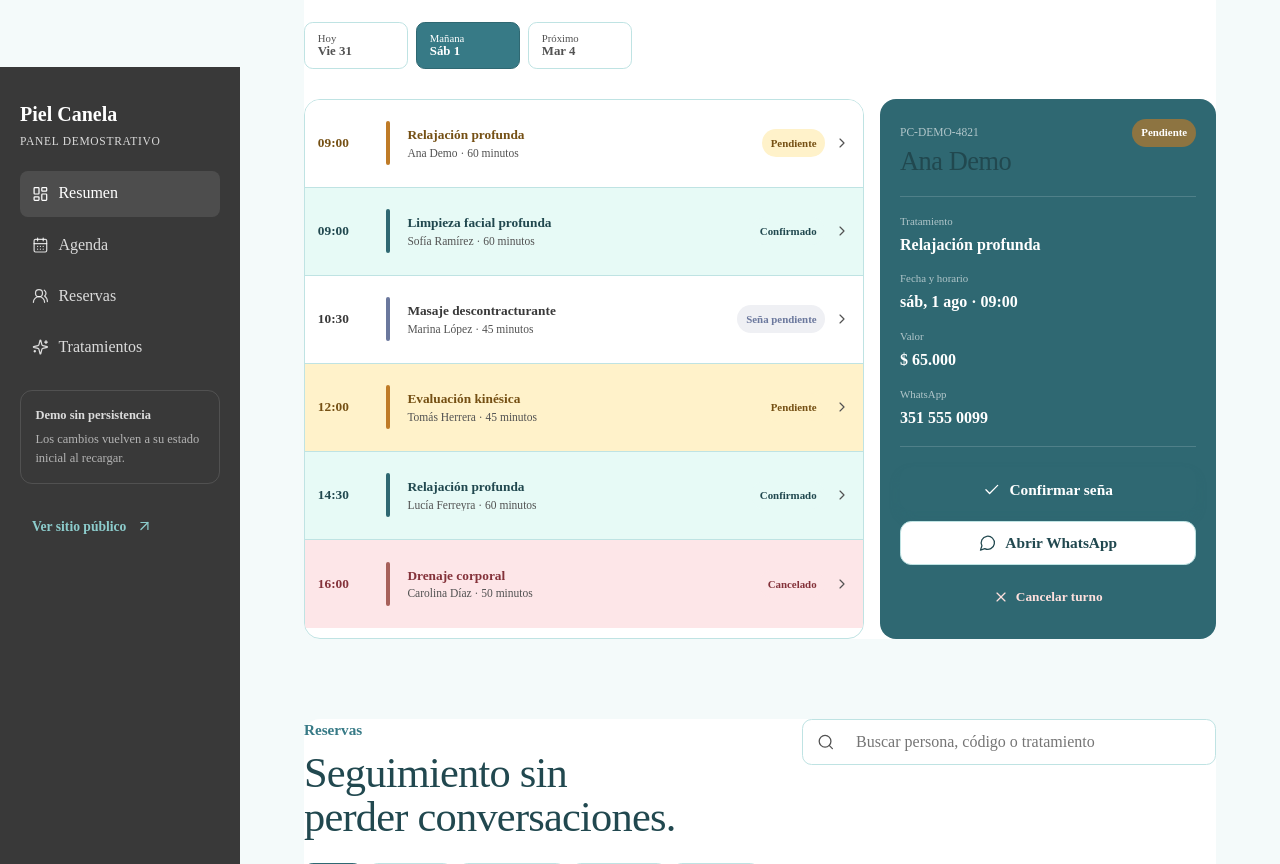
Test: DemoAdminDashboard › shows seeded states and highlights a booking created in the public demo
(page scrolled)
Expected: the 2nd text "Pendiente" is shown, [762,129,825,157]
Expected: the 1st text "Confirmado" is shown, [751,217,825,245]
Click the button "Confirmar seña" at [1048, 489], box [900,467,1196,511]
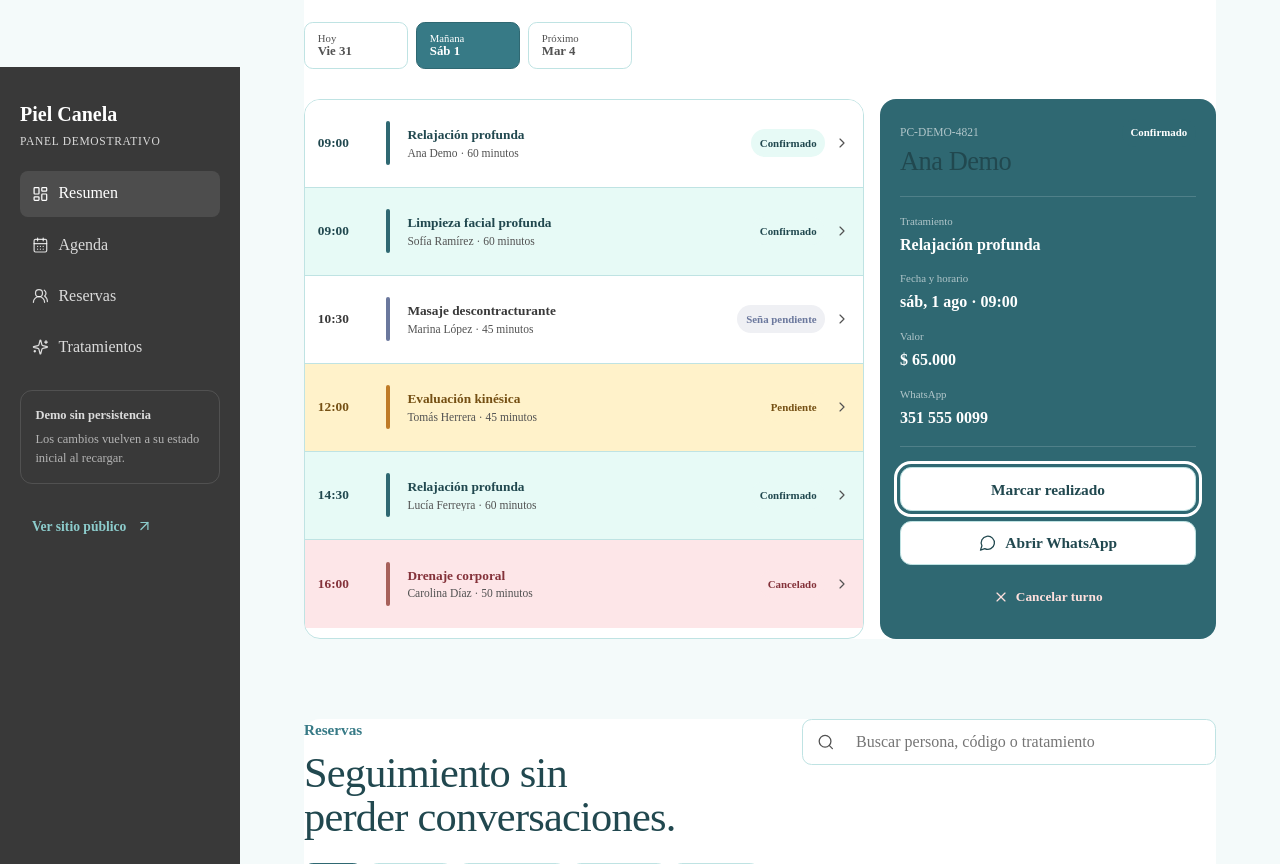
Expected: the 1st text "Confirmado" is shown, [1122,119,1196,147]
